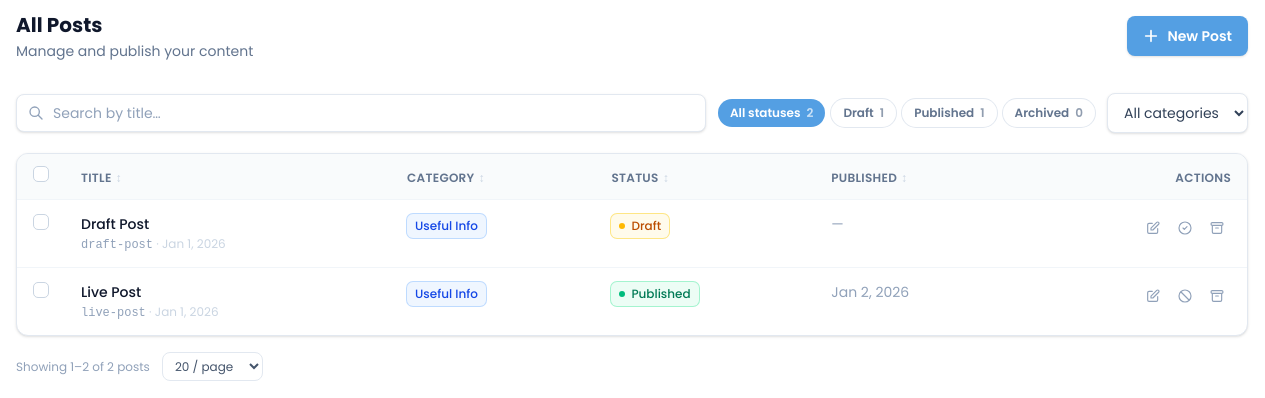
DashboardClient › status filter hides non-matching rows
Click the button named "Published1".
click(949, 113)  # box [902,99,996,127]
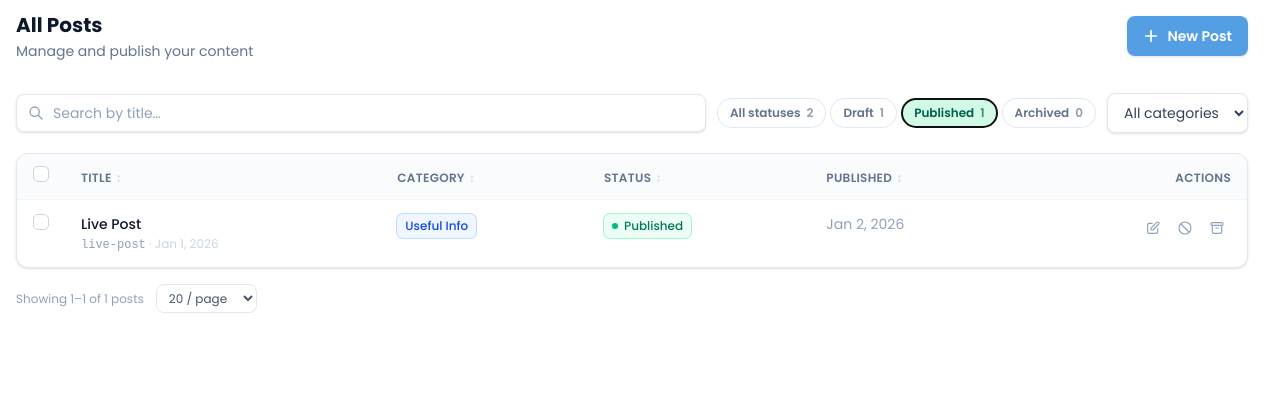
Expected: the link "Live Post" is shown, [81,214,141,234]
Now the link "Draft Post" is gone
